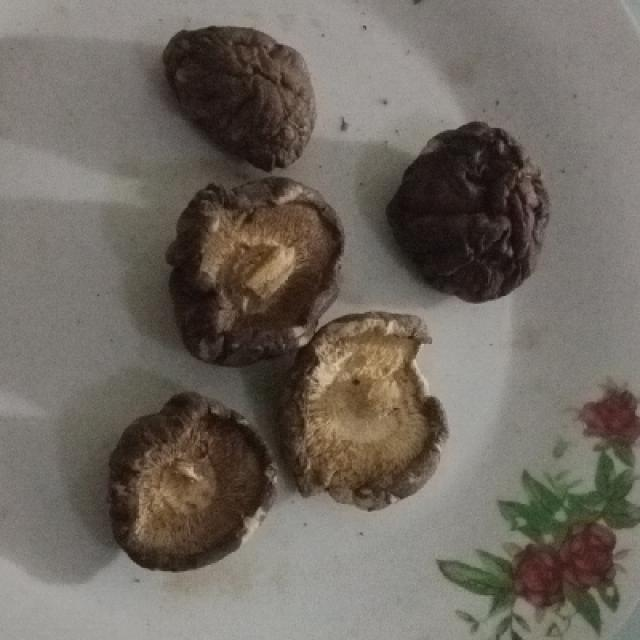Lentinus edodes: (175, 180, 350, 357), (109, 390, 281, 569), (295, 314, 454, 507), (382, 120, 549, 293), (162, 22, 312, 178)
